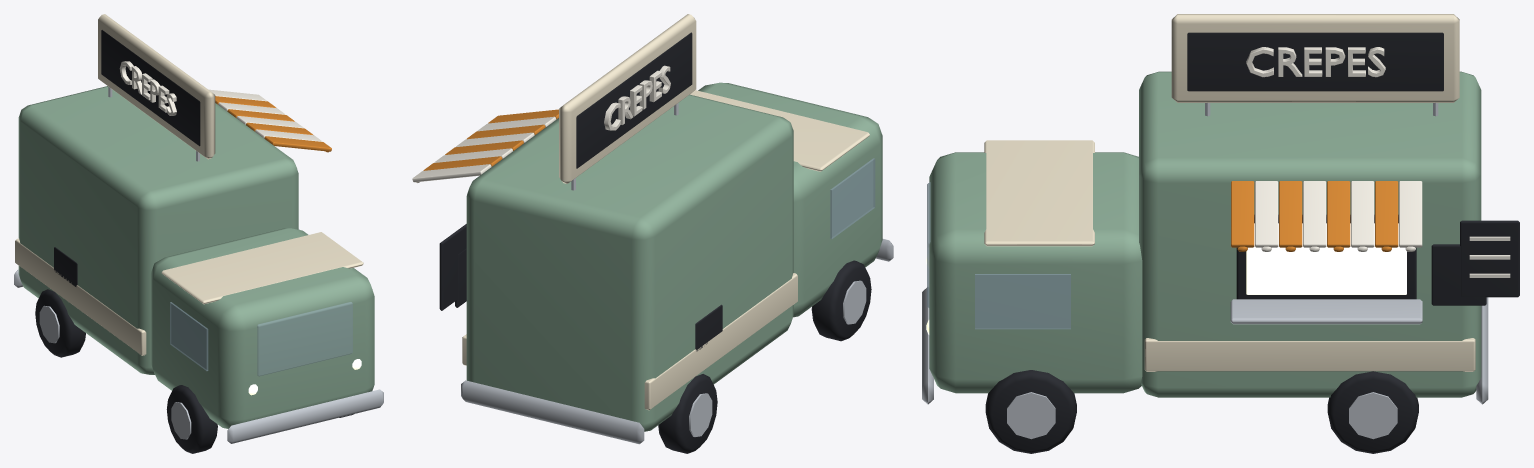
The model's file is food_truck_crepe.glb.
3 views of the same model, side by side, from view 1: azimuth 30°, elevation 25°; view 2: azimuth 150°, elevation 25°; view 3: azimuth 270°, elevation 25° (orthographic). The views are drawn at different scales.
Visible parts, largest first — view 1: food_truck_crepe; view 2: food_truck_crepe; view 3: food_truck_crepe.
Part boxes in pixels (bbox=[...]): food_truck_crepe: bbox=[14, 14, 383, 453]; food_truck_crepe: bbox=[412, 14, 893, 453]; food_truck_crepe: bbox=[922, 14, 1519, 453].
Bounding box in the file's own units: 2.87 × 3.57 × 4.98.
